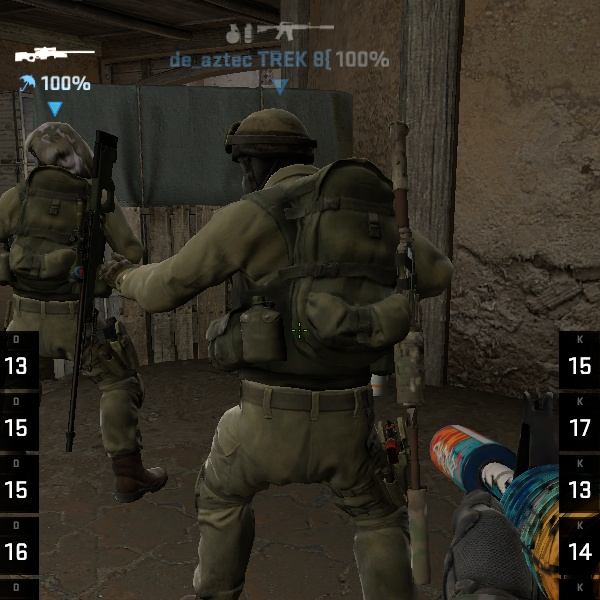ct_body: (123, 96, 458, 600), (7, 103, 167, 517)
ct_head: (213, 95, 332, 208), (9, 108, 105, 199)
